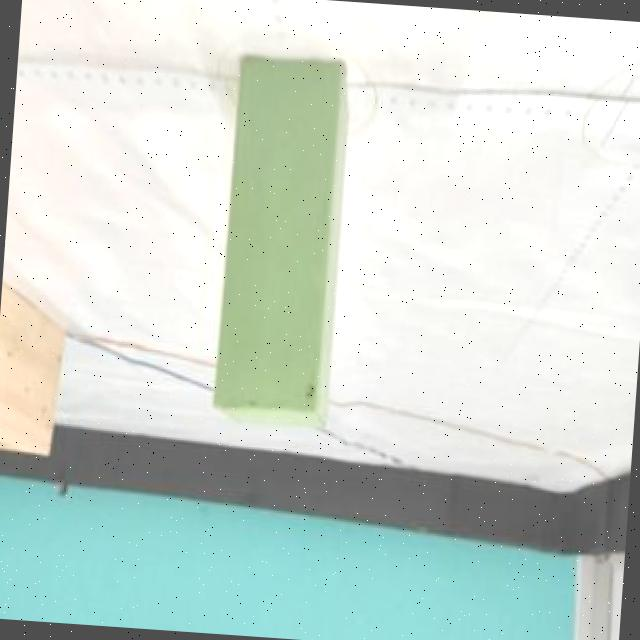greenbox: (208, 51, 357, 435)
